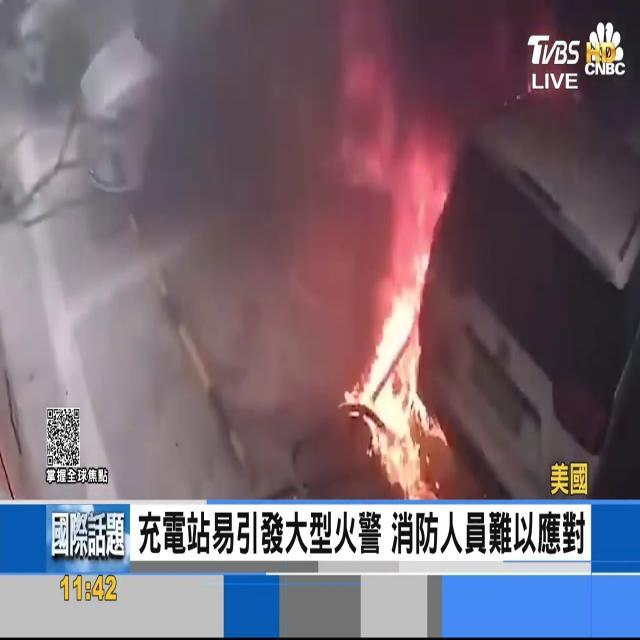Fire: (329, 104, 461, 493)
Smoke: (2, 1, 360, 483)
